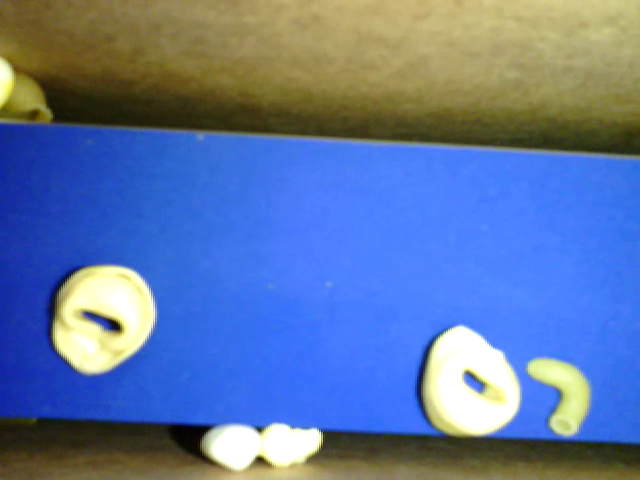elbow: (527, 351, 593, 437)
shell: (2, 66, 52, 129)
tortellini: (416, 320, 524, 438), (51, 265, 158, 377)
